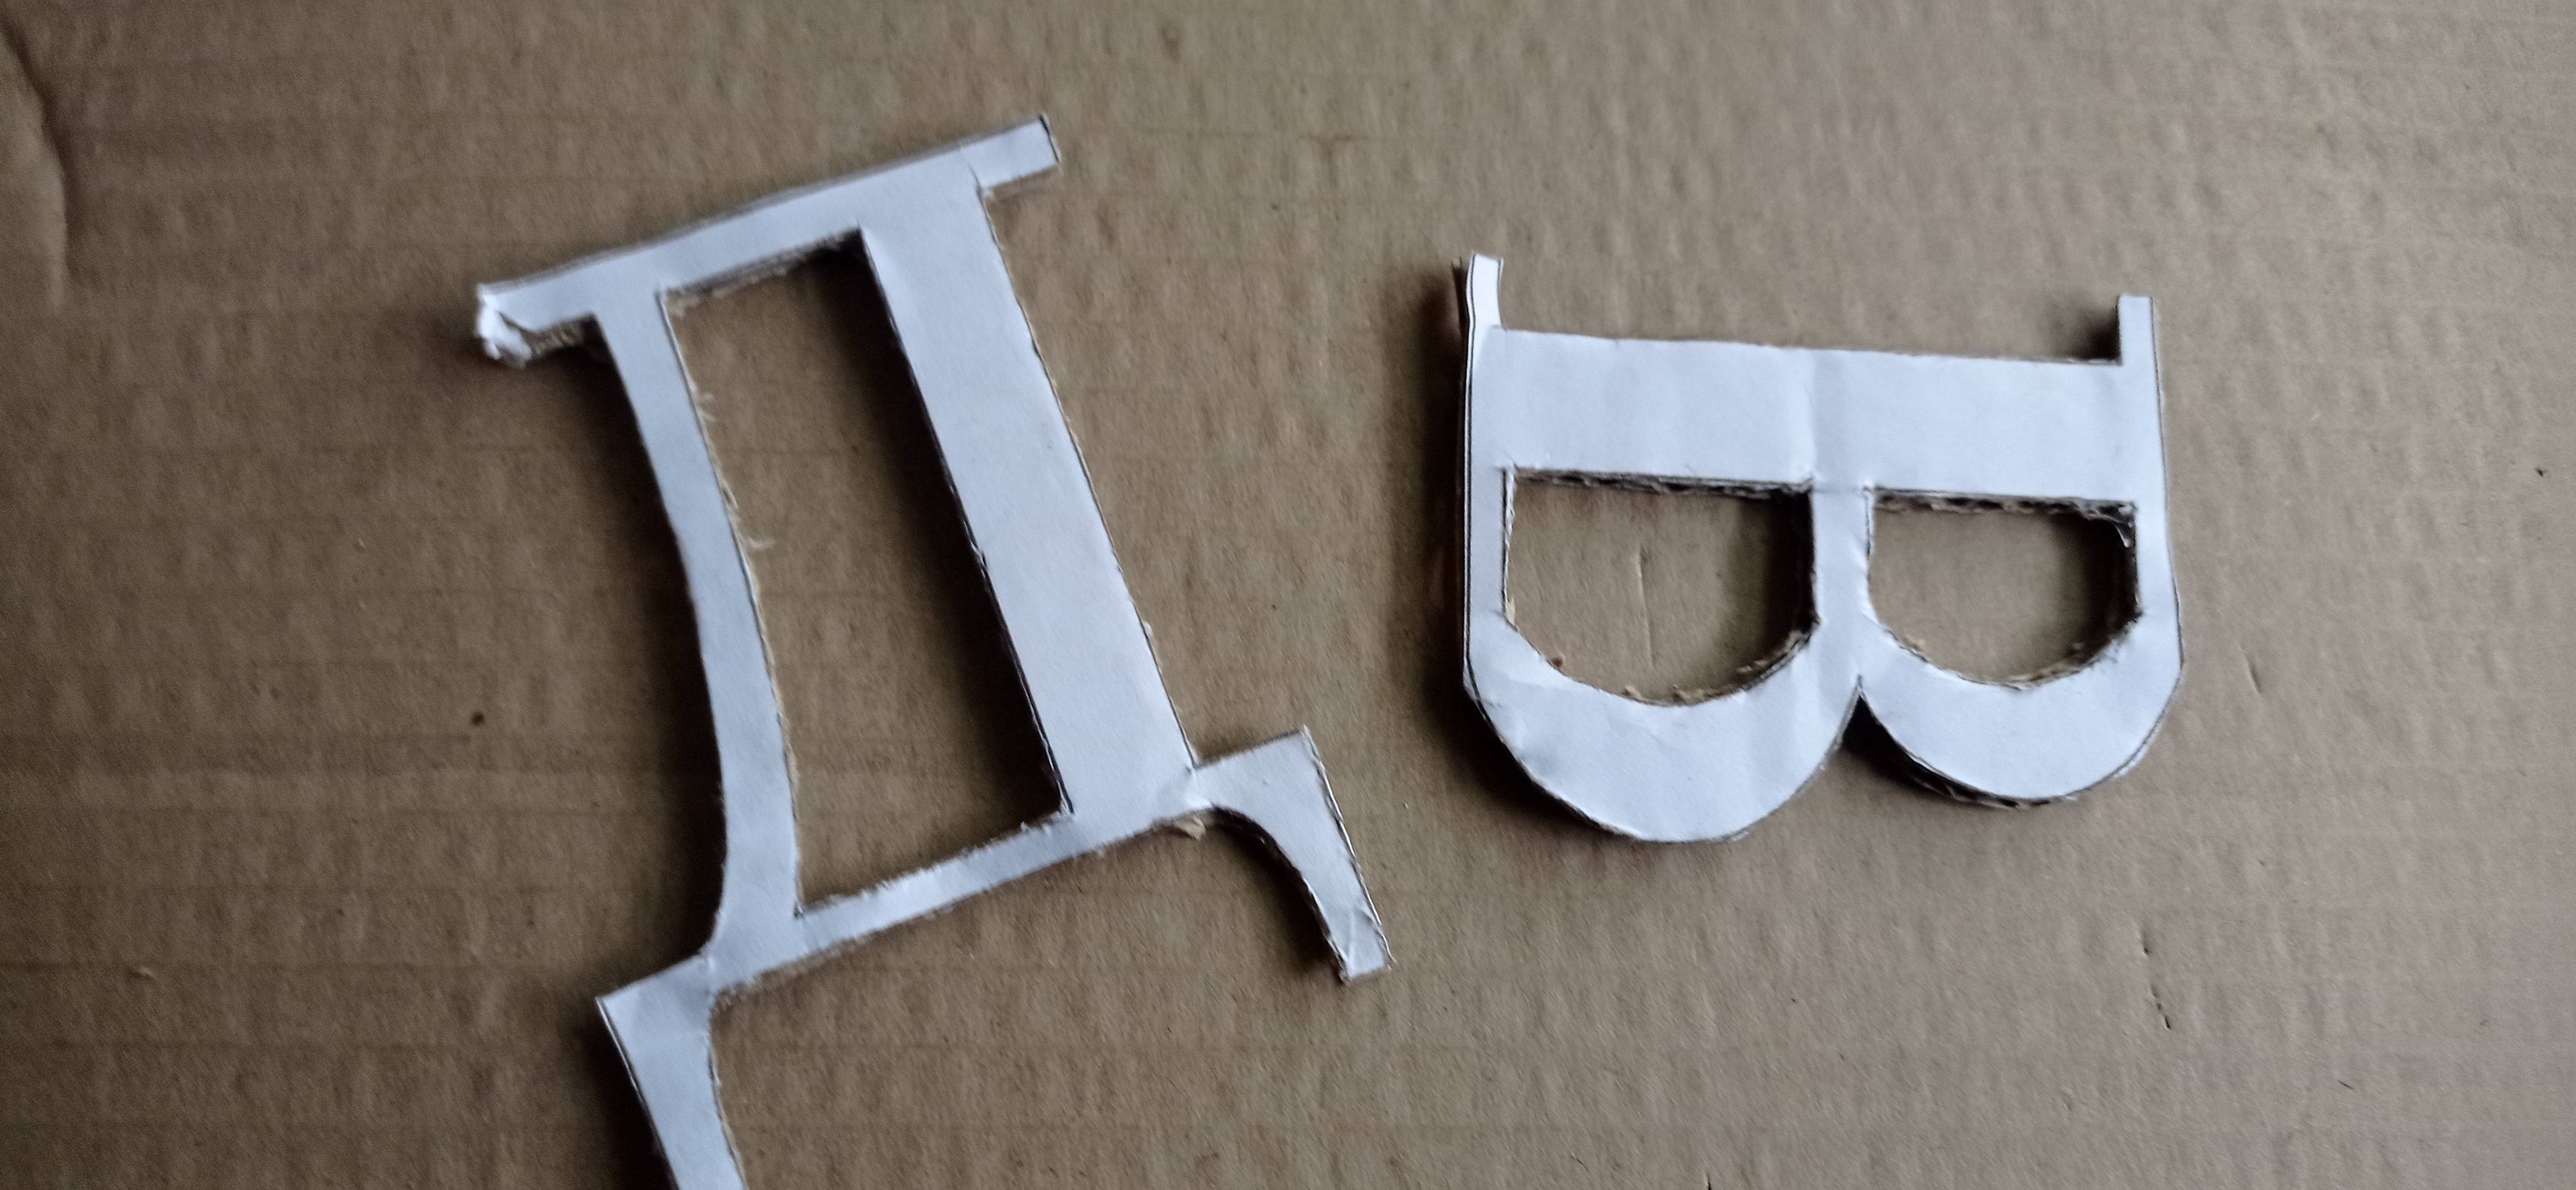d: (475, 112, 1395, 1190)
v: (1452, 248, 2190, 845)
